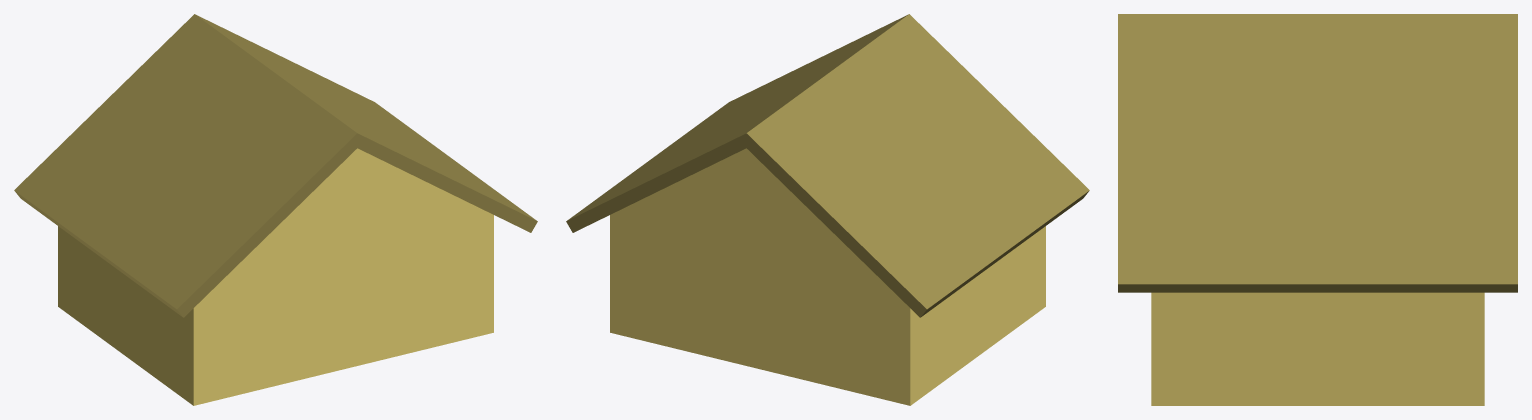
Rendered from result.glb.
3 views of the same model, side by side, from view 1: azimuth 30°, elevation 25°; view 2: azimuth 150°, elevation 25°; view 3: azimuth 270°, elevation 25° (orthographic). The views are drawn at different scales.
Visible parts, largest first — view 1: 3c622792-f3e6-484b-8608-08188615f0f7__undefined (×2), 1e93b8e8-ccb2-44f8-b5a1-cbda917264a9__undefined; view 2: 3c622792-f3e6-484b-8608-08188615f0f7__undefined (×2), 1e93b8e8-ccb2-44f8-b5a1-cbda917264a9__undefined; view 3: 3c622792-f3e6-484b-8608-08188615f0f7__undefined, 1e93b8e8-ccb2-44f8-b5a1-cbda917264a9__undefined.
Part boxes in pixels (x1,y1,x2,y2): 3c622792-f3e6-484b-8608-08188615f0f7__undefined (×2): (14, 14, 537, 317); 1e93b8e8-ccb2-44f8-b5a1-cbda917264a9__undefined: (58, 148, 493, 405); 3c622792-f3e6-484b-8608-08188615f0f7__undefined (×2): (566, 14, 1089, 317); 1e93b8e8-ccb2-44f8-b5a1-cbda917264a9__undefined: (610, 148, 1045, 405); 3c622792-f3e6-484b-8608-08188615f0f7__undefined: (1118, 14, 1517, 292); 1e93b8e8-ccb2-44f8-b5a1-cbda917264a9__undefined: (1151, 292, 1484, 405).
Size of the model in its own units: 768 by 500 by 600.
